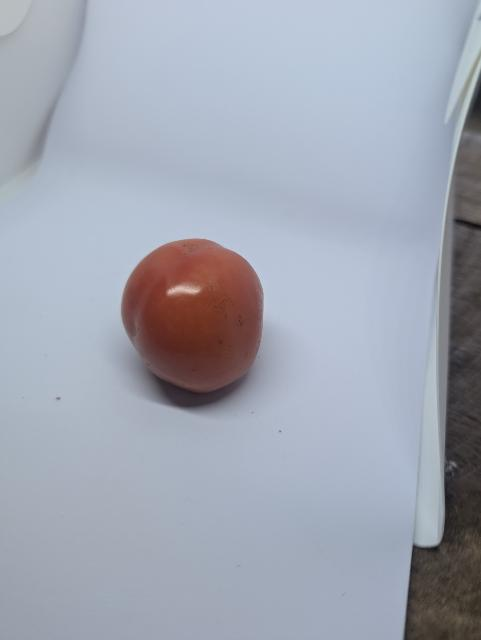red: (117, 222, 284, 403)
